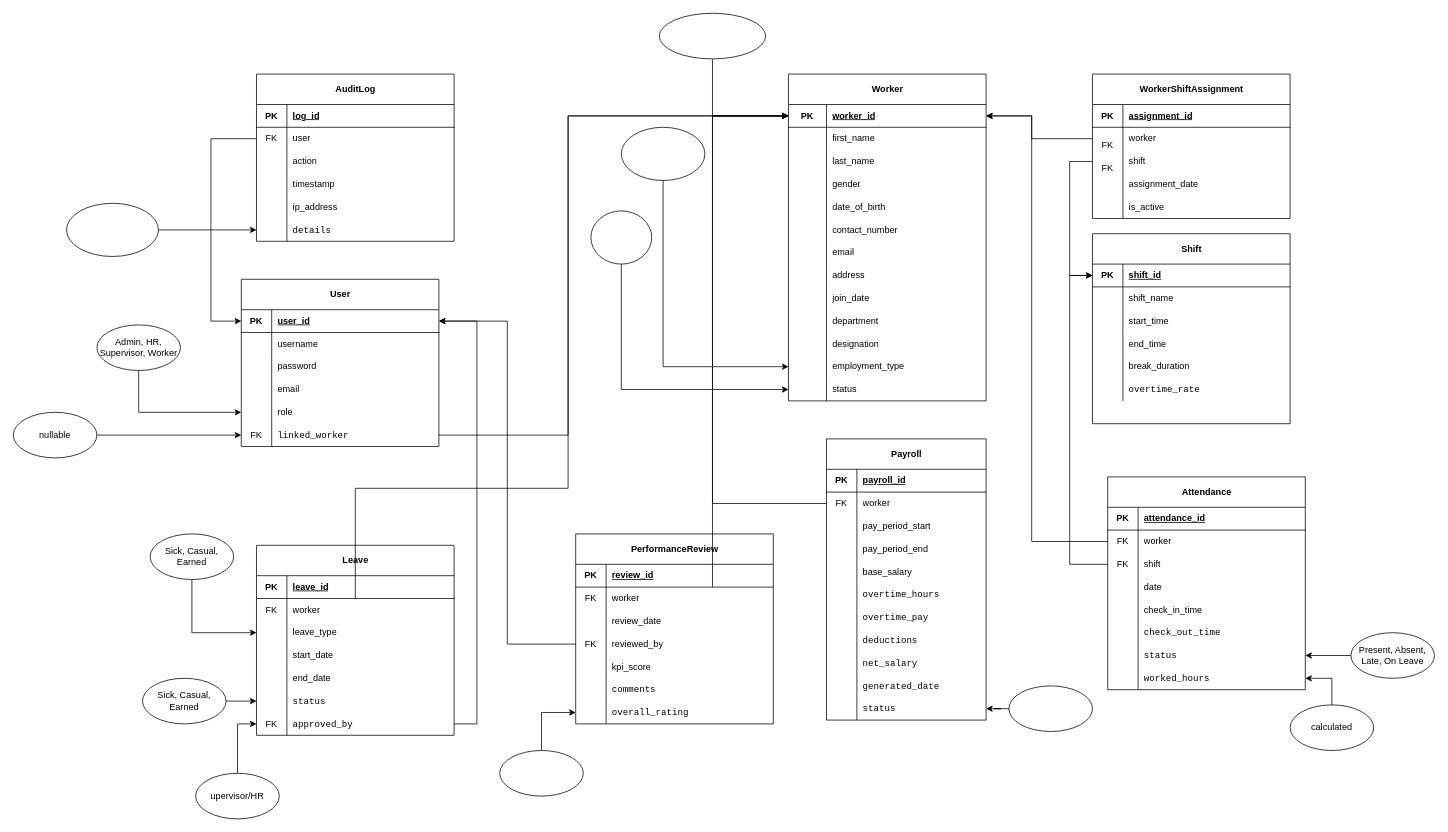
This 1448x832 diagram has some shape labels left out. Each missing label, with the centre of its shape:
"Active / Inactive" goes at (x=621, y=237).
"Excellent, Good, Needs Improvement" goes at (x=541, y=773).
"Full-Time / Part-Time / Contract" goes at (x=663, y=153).
"JSON" goes at (x=112, y=229).
"Pending, Paid, Failed" goes at (x=1050, y=708).
"PK, unique, auto" goes at (x=712, y=36).
